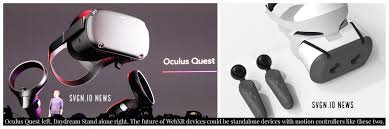oculus: (287, 16, 383, 84), (69, 6, 153, 64)
